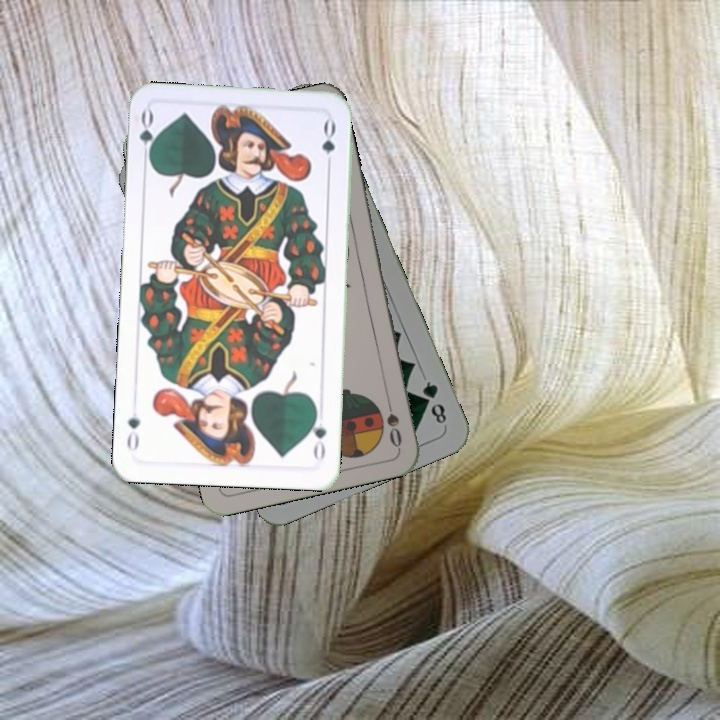G8: (418, 377, 450, 426)
GO: (135, 107, 160, 166), (306, 405, 329, 464)
SO: (381, 391, 405, 450)
